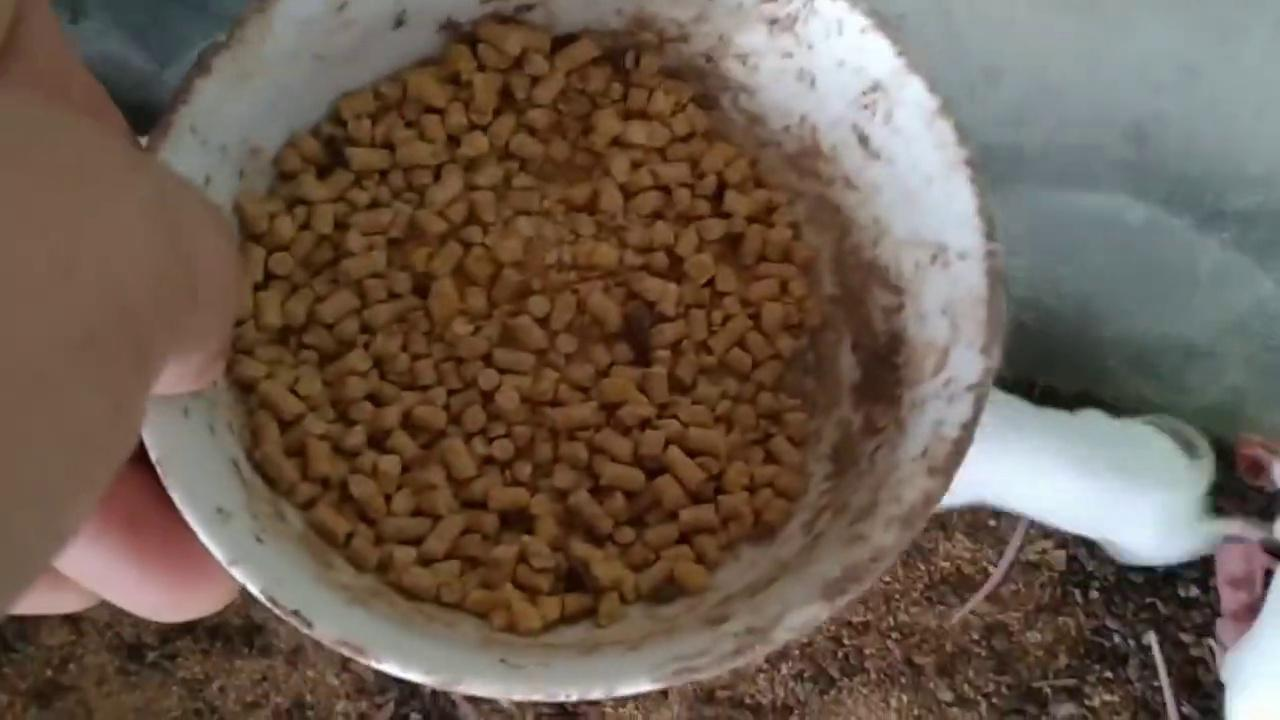rat: (935, 386, 1233, 564)
